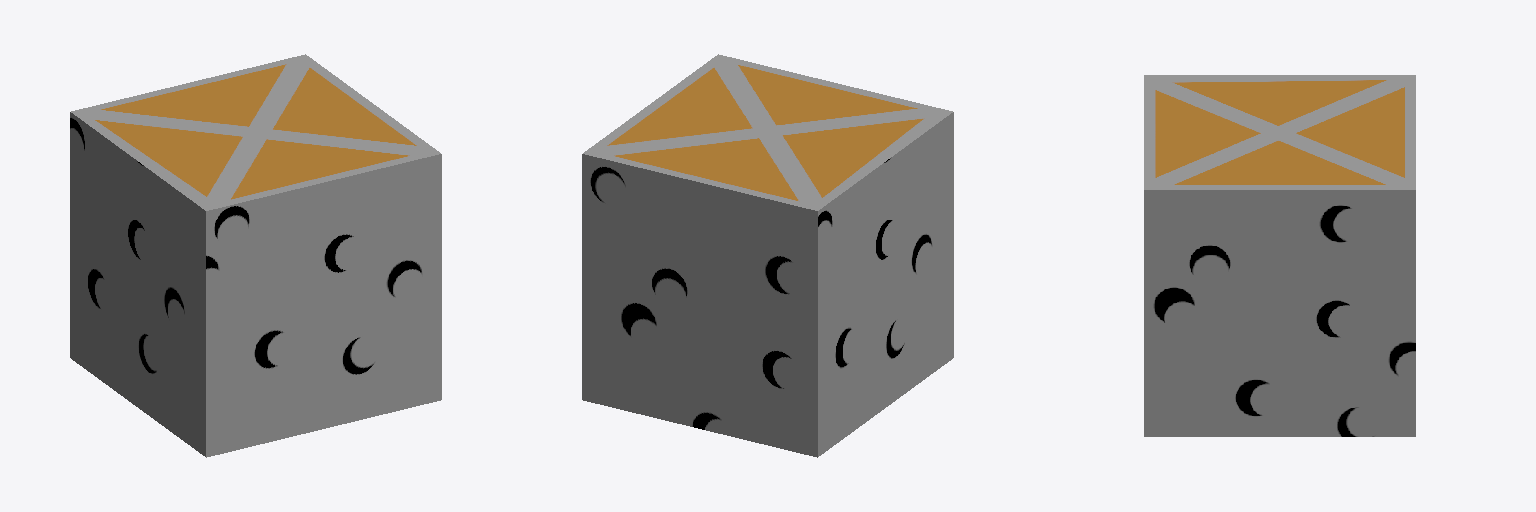
3 views of the same model, side by side, from view 1: azimuth 30°, elevation 25°; view 2: azimuth 150°, elevation 25°; view 3: azimuth 270°, elevation 25° (orthographic).
Parts seen in each view (by area): view 1: Cube; view 2: Cube; view 3: Cube.
Part boxes in pixels (x1,y1,x2,y2): Cube: (70, 54, 441, 457); Cube: (582, 54, 953, 457); Cube: (1144, 75, 1415, 436).
Bounding box in the file's own units: 0.5 × 0.5 × 0.5.
1 materials, 1 textured.